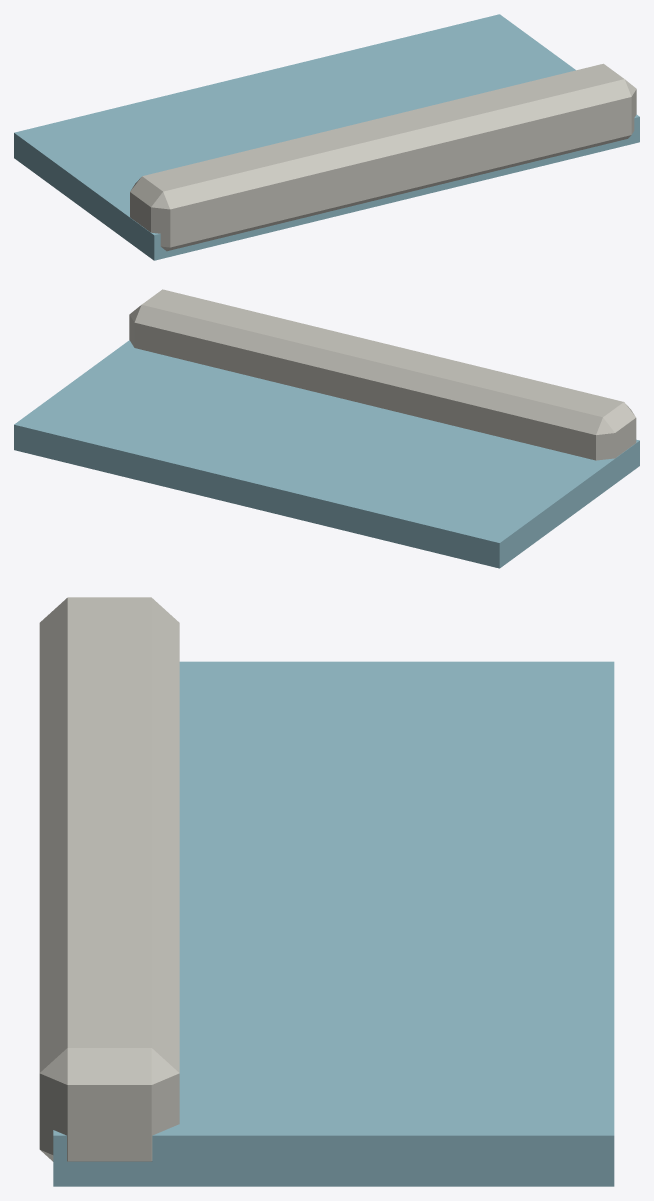
Rendered from feudal-japan-castle-town-koi-pond-straight-edge-c6af23d1__26387.glb.
3 views of the same model, one above another, from view 1: azimuth 30°, elevation 25°; view 2: azimuth 150°, elevation 25°; view 3: azimuth 270°, elevation 25° (orthographic). The views are drawn at different scales.
Visible parts, largest first — view 1: koi-pond-straight-edge; view 2: koi-pond-straight-edge; view 3: koi-pond-straight-edge.
Boxes of the visible parts, bbox=[...] form: koi-pond-straight-edge: bbox=[14, 14, 639, 260]; koi-pond-straight-edge: bbox=[14, 289, 639, 568]; koi-pond-straight-edge: bbox=[39, 597, 614, 1186].
Bounding box in the file's own units: 2 × 0.2501 × 1.03.
